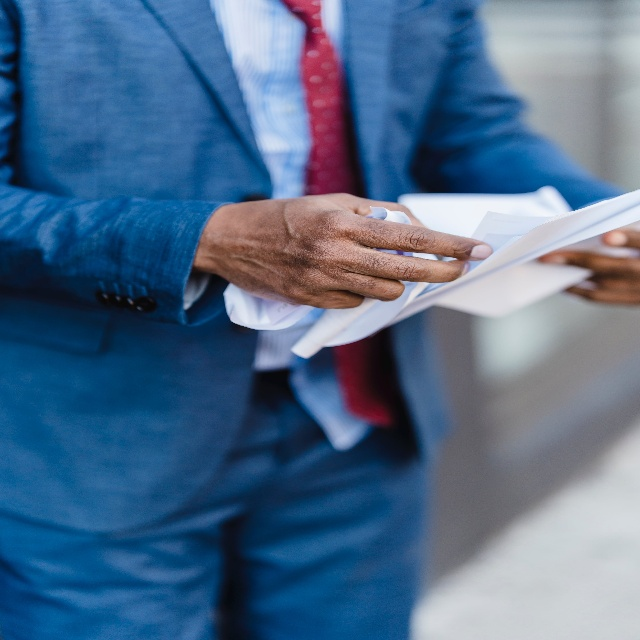Sin_guantes: (222, 191, 492, 313), (538, 220, 640, 303)
